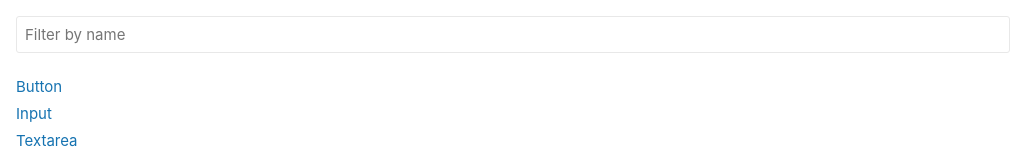
Test: should filter list when search field contains a query
Expected: the number of links with test id "rsg-toc-link" is 3, top-left (16, 77), bottom-right (62, 96); top-left (16, 104), bottom-right (52, 123); top-left (16, 131), bottom-right (78, 150)
In the field with placeholder "Filter by name": (513, 34) top-left (16, 16), bottom-right (1010, 53), type "put"
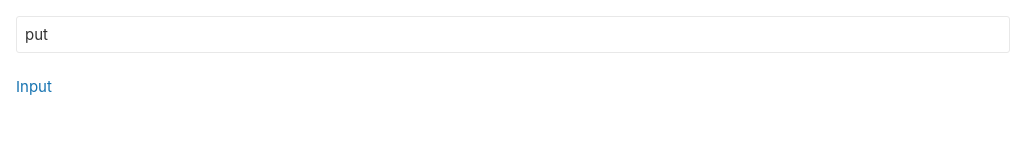
Expected: the link with test id "rsg-toc-link" reads "Input", top-left (16, 77), bottom-right (52, 96)
Result: the number of links with test id "rsg-toc-link" is 1 at top-left (16, 77), bottom-right (52, 96)
